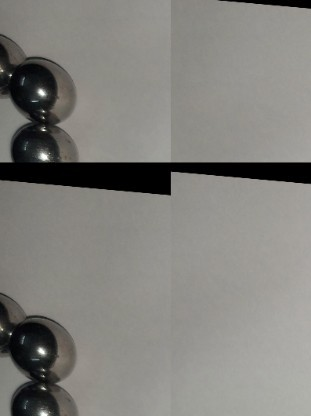ironball: (9, 47, 73, 125), (17, 316, 85, 383), (0, 124, 94, 163), (1, 378, 98, 414), (0, 23, 28, 99), (0, 284, 29, 351)
